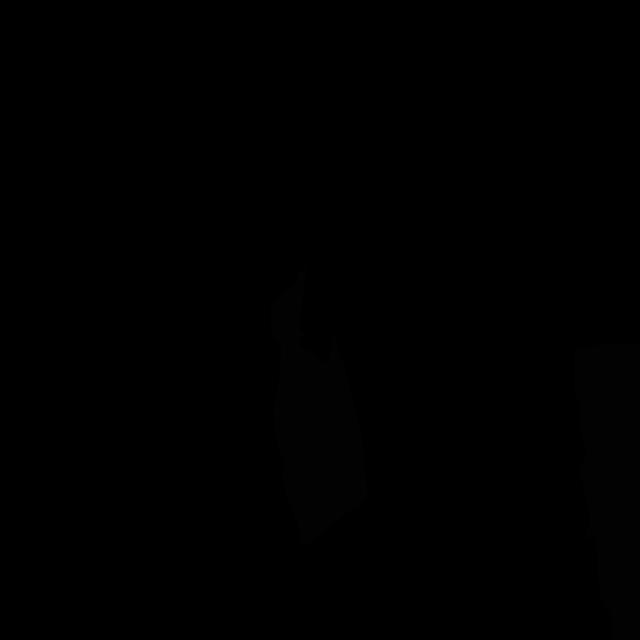cardboard: (270, 264, 368, 545), (574, 342, 640, 550), (594, 534, 640, 640)
